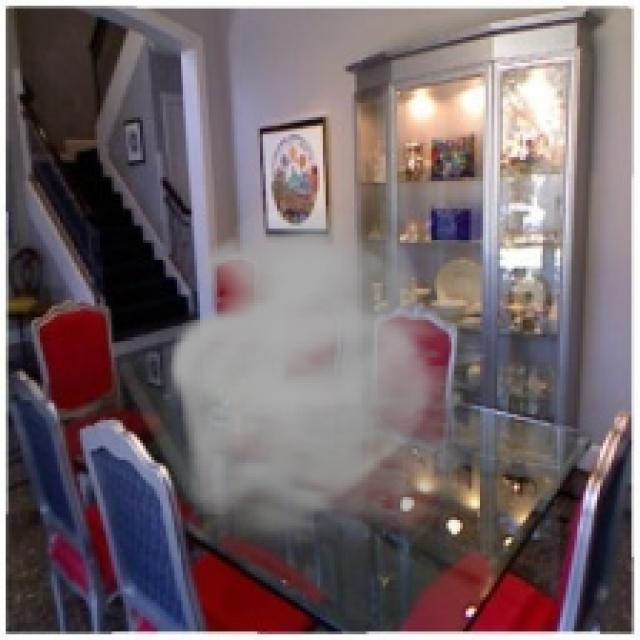smoke: (163, 206, 528, 563)
